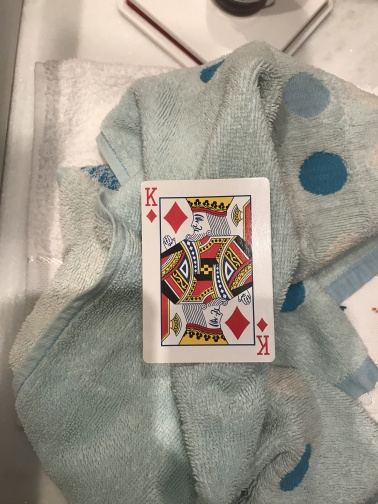king: (138, 175, 276, 364)
